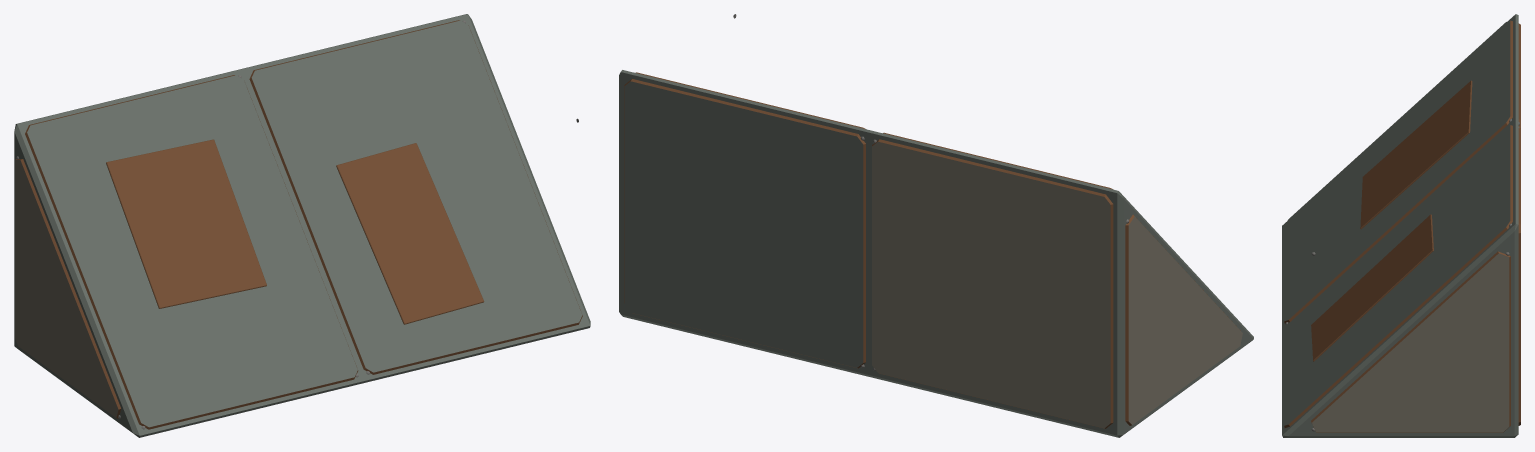
File: R4B_WideWedge.fbx
The picture shows the model from 3 angles, left to right: view 1: azimuth 30°, elevation 25°; view 2: azimuth 150°, elevation 25°; view 3: azimuth 270°, elevation 25°; orthographic projection. The views are drawn at different scales.
Visible parts, largest first — view 1: R4B_WideWedge; view 2: R4B_WideWedge; view 3: R4B_WideWedge.
Boxes of the visible parts, x1,y1,x2,y2 form: R4B_WideWedge: [14, 14, 590, 437]; R4B_WideWedge: [619, 14, 1253, 437]; R4B_WideWedge: [1282, 14, 1520, 437].
Size of the model in its own units: 1.07 by 0.5023 by 0.5023.
